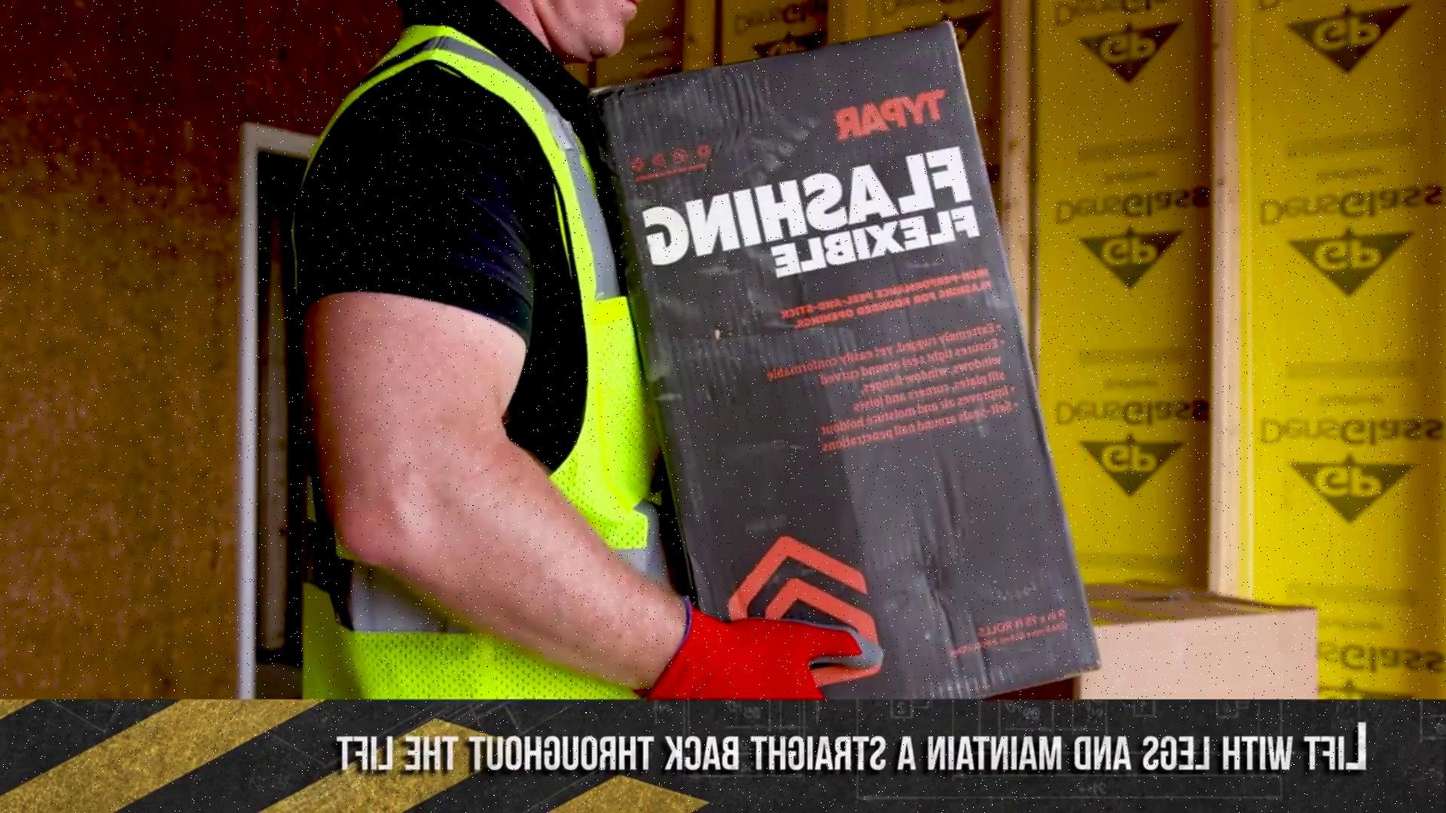Vest: (305, 25, 674, 704)
